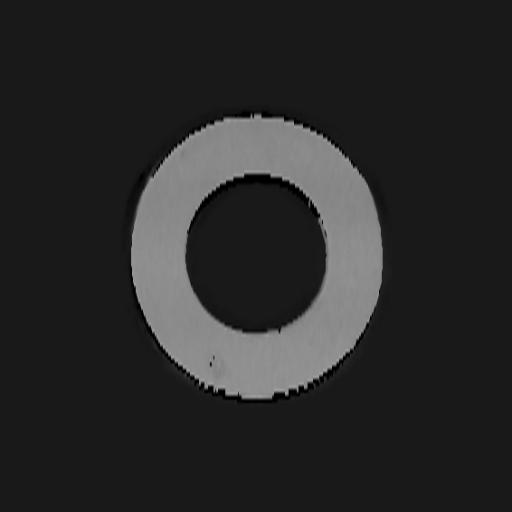defect: (209, 353, 226, 383)
